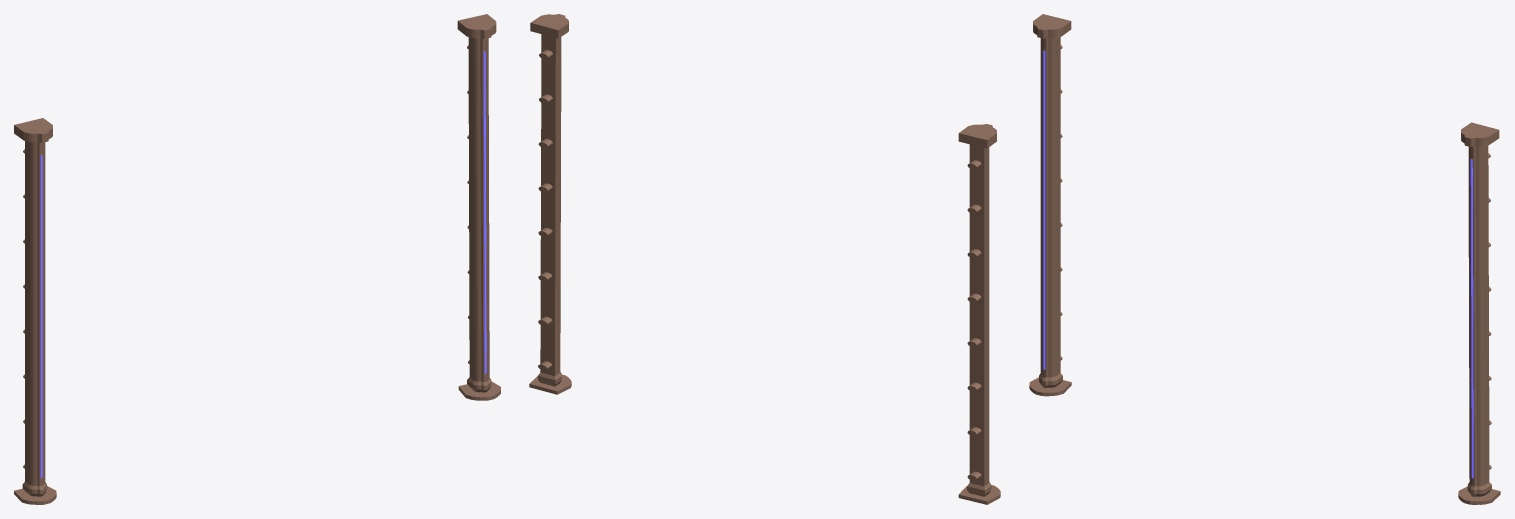
Rendered from pillars_vproom.fbx.
3 views of the same model, side by side, from view 1: azimuth 30°, elevation 25°; view 2: azimuth 150°, elevation 25°; view 3: azimuth 330°, elevation 25° (orthographic).
Visible parts, largest first — view 1: Pillar; view 2: Pillar; view 3: Pillar.
Part boxes in pixels (x1,y1,x2,y2): Pillar: [14, 14, 500, 504]; Pillar: [529, 14, 1000, 504]; Pillar: [1029, 14, 1500, 504].
Size of the model in its own units: 18583 by 13878 by 1646.
